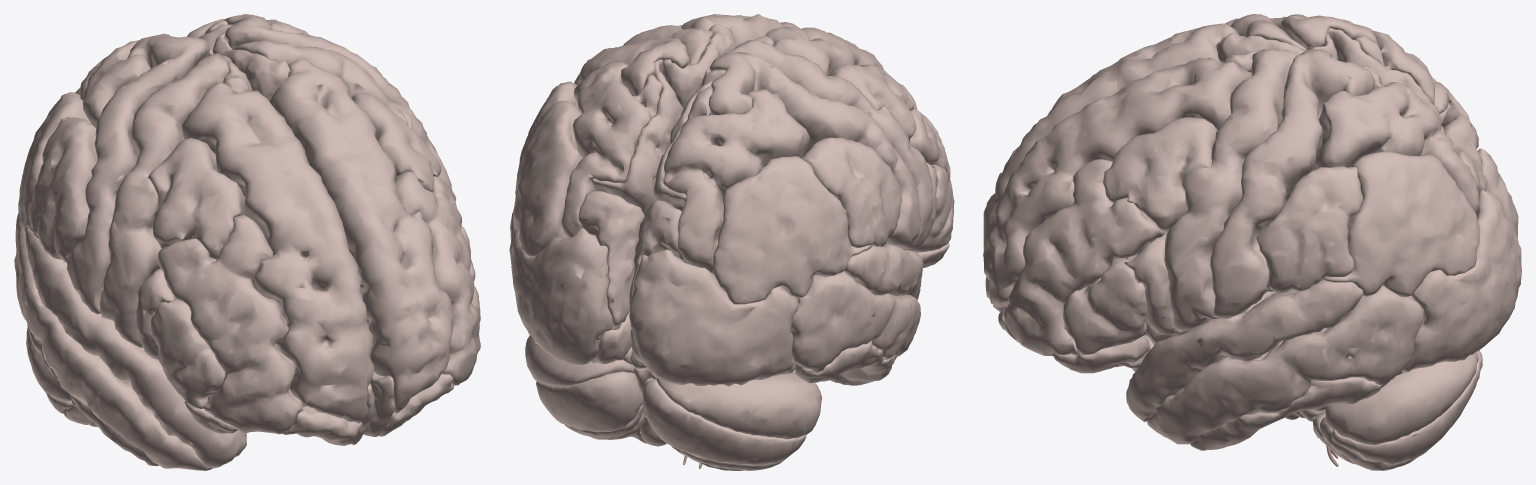
File: atlas_nervous_mni152.nervous.LOD1.glb
3 renders of one model, left to right at view 1: azimuth 30°, elevation 25°; view 2: azimuth 150°, elevation 25°; view 3: azimuth 270°, elevation 25°, orthographic. The views are drawn at different scales.
Visible parts, largest first — view 1: ATLAS.NERVOUS.MNI152.NERVOUS.SUPERIOR_FRONTAL_GYRUS.R, ATLAS.NERVOUS.MNI152.NERVOUS.SUPERIOR_FRONTAL_GYRUS.L, ATLAS.NERVOUS.MNI152.NERVOUS.ROSTRAL_MIDDLE_FRONTAL_GYRUS.R, ATLAS.NERVOUS.MNI152.NERVOUS.PRECENTRAL_GYRUS.R, ATLAS.NERVOUS.MNI152.NERVOUS.POSTCENTRAL_GYRUS.R, ATLAS.NERVOUS.MNI152.NERVOUS.SUPERIOR_TEMPORAL_GYRUS.R, ATLAS.NERVOUS.MNI152.NERVOUS.MIDDLE_TEMPORAL_GYRUS.R, ATLAS.NERVOUS.MNI152.NERVOUS.CAUDAL_MIDDLE_FRONTAL_GYRUS.R, ATLAS.NERVOUS.MNI152.NERVOUS.ROSTRAL_MIDDLE_FRONTAL_GYRUS.L, ATLAS.NERVOUS.MNI152.NERVOUS.SUPRAMARGINAL_GYRUS.R, ATLAS.NERVOUS.MNI152.NERVOUS.INFERIOR_FRONTAL_GYRUS_PARS_TRI, ATLAS.NERVOUS.MNI152.NERVOUS.PRECENTRAL_GYRUS.L (+14 smaller); view 2: ATLAS.NERVOUS.MNI152.NERVOUS.INFERIOR_PARIETAL_LOBULE_ANGULA (×2), ATLAS.NERVOUS.MNI152.NERVOUS.LATERAL_OCCIPITAL_CORTEX.R, ATLAS.NERVOUS.MNI152.NERVOUS.SUPERIOR_PARIETAL_LOBULE.R, ATLAS.NERVOUS.MNI152.NERVOUS.LATERAL_OCCIPITAL_CORTEX.L, ATLAS.NERVOUS.MNI152.NERVOUS.POSTCENTRAL_GYRUS.R, ATLAS.NERVOUS.MNI152.NERVOUS.MIDDLE_TEMPORAL_GYRUS.R, ATLAS.NERVOUS.MNI152.NERVOUS.SUPERIOR_PARIETAL_LOBULE.L, ATLAS.NERVOUS.MNI152.NERVOUS.CRUS_I.R, ATLAS.NERVOUS.MNI152.NERVOUS.SUPRAMARGINAL_GYRUS.R, ATLAS.NERVOUS.MNI152.NERVOUS.CRUS_II.R, ATLAS.NERVOUS.MNI152.NERVOUS.PRECENTRAL_GYRUS.R, ATLAS.NERVOUS.MNI152.NERVOUS.CRUS_II.L (+19 smaller); view 3: ATLAS.NERVOUS.MNI152.NERVOUS.SUPERIOR_FRONTAL_GYRUS.L, ATLAS.NERVOUS.MNI152.NERVOUS.MIDDLE_TEMPORAL_GYRUS.L, ATLAS.NERVOUS.MNI152.NERVOUS.INFERIOR_PARIETAL_LOBULE_ANGULA, ATLAS.NERVOUS.MNI152.NERVOUS.POSTCENTRAL_GYRUS.L, ATLAS.NERVOUS.MNI152.NERVOUS.ROSTRAL_MIDDLE_FRONTAL_GYRUS.L, ATLAS.NERVOUS.MNI152.NERVOUS.PRECENTRAL_GYRUS.L, ATLAS.NERVOUS.MNI152.NERVOUS.SUPERIOR_TEMPORAL_GYRUS.L, ATLAS.NERVOUS.MNI152.NERVOUS.LATERAL_OCCIPITAL_CORTEX.L, ATLAS.NERVOUS.MNI152.NERVOUS.SUPERIOR_PARIETAL_LOBULE.L, ATLAS.NERVOUS.MNI152.NERVOUS.SUPRAMARGINAL_GYRUS.L, ATLAS.NERVOUS.MNI152.NERVOUS.CAUDAL_MIDDLE_FRONTAL_GYRUS.L, ATLAS.NERVOUS.MNI152.NERVOUS.CRUS_I.L (+14 smaller).
Boxes of the visible parts, left/top/right/bottom form: ATLAS.NERVOUS.MNI152.NERVOUS.SUPERIOR_FRONTAL_GYRUS.R: left=182, top=82, right=374, bottom=423; ATLAS.NERVOUS.MNI152.NERVOUS.SUPERIOR_FRONTAL_GYRUS.L: left=269, top=59, right=453, bottom=413; ATLAS.NERVOUS.MNI152.NERVOUS.ROSTRAL_MIDDLE_FRONTAL_GYRUS.R: left=158, top=215, right=302, bottom=434; ATLAS.NERVOUS.MNI152.NERVOUS.PRECENTRAL_GYRUS.R: left=99, top=53, right=228, bottom=347; ATLAS.NERVOUS.MNI152.NERVOUS.POSTCENTRAL_GYRUS.R: left=67, top=33, right=209, bottom=314; ATLAS.NERVOUS.MNI152.NERVOUS.SUPERIOR_TEMPORAL_GYRUS.R: left=25, top=228, right=246, bottom=468; ATLAS.NERVOUS.MNI152.NERVOUS.MIDDLE_TEMPORAL_GYRUS.R: left=14, top=227, right=212, bottom=470; ATLAS.NERVOUS.MNI152.NERVOUS.CAUDAL_MIDDLE_FRONTAL_GYRUS.R: left=148, top=138, right=245, bottom=259; ATLAS.NERVOUS.MNI152.NERVOUS.ROSTRAL_MIDDLE_FRONTAL_GYRUS.L: left=394, top=171, right=480, bottom=385; ATLAS.NERVOUS.MNI152.NERVOUS.SUPRAMARGINAL_GYRUS.R: left=28, top=117, right=97, bottom=262; ATLAS.NERVOUS.MNI152.NERVOUS.INFERIOR_FRONTAL_GYRUS_PARS_TRI: left=151, top=299, right=225, bottom=408; ATLAS.NERVOUS.MNI152.NERVOUS.PRECENTRAL_GYRUS.L: left=234, top=40, right=456, bottom=201; ATLAS.NERVOUS.MNI152.NERVOUS.INFERIOR_PARIETAL_LOBULE_ANGULA (×2): left=513, top=100, right=872, bottom=304; ATLAS.NERVOUS.MNI152.NERVOUS.LATERAL_OCCIPITAL_CORTEX.R: left=629, top=249, right=798, bottom=386; ATLAS.NERVOUS.MNI152.NERVOUS.SUPERIOR_PARIETAL_LOBULE.R: left=663, top=87, right=810, bottom=273; ATLAS.NERVOUS.MNI152.NERVOUS.LATERAL_OCCIPITAL_CORTEX.L: left=511, top=228, right=612, bottom=365; ATLAS.NERVOUS.MNI152.NERVOUS.POSTCENTRAL_GYRUS.R: left=709, top=52, right=920, bottom=249; ATLAS.NERVOUS.MNI152.NERVOUS.MIDDLE_TEMPORAL_GYRUS.R: left=791, top=271, right=920, bottom=372; ATLAS.NERVOUS.MNI152.NERVOUS.SUPERIOR_PARIETAL_LOBULE.L: left=561, top=60, right=662, bottom=237; ATLAS.NERVOUS.MNI152.NERVOUS.CRUS_I.R: left=655, top=372, right=821, bottom=439; ATLAS.NERVOUS.MNI152.NERVOUS.SUPRAMARGINAL_GYRUS.R: left=801, top=137, right=901, bottom=247; ATLAS.NERVOUS.MNI152.NERVOUS.CRUS_II.R: left=642, top=379, right=806, bottom=464; ATLAS.NERVOUS.MNI152.NERVOUS.PRECENTRAL_GYRUS.R: left=730, top=40, right=933, bottom=250; ATLAS.NERVOUS.MNI152.NERVOUS.CRUS_II.L: left=536, top=371, right=642, bottom=432; ATLAS.NERVOUS.MNI152.NERVOUS.SUPERIOR_FRONTAL_GYRUS.L: left=983, top=58, right=1251, bottom=312; ATLAS.NERVOUS.MNI152.NERVOUS.MIDDLE_TEMPORAL_GYRUS.L: left=1147, top=285, right=1423, bottom=444; ATLAS.NERVOUS.MNI152.NERVOUS.INFERIOR_PARIETAL_LOBULE_ANGULA: left=1324, top=151, right=1479, bottom=296; ATLAS.NERVOUS.MNI152.NERVOUS.POSTCENTRAL_GYRUS.L: left=1210, top=49, right=1374, bottom=318; ATLAS.NERVOUS.MNI152.NERVOUS.ROSTRAL_MIDDLE_FRONTAL_GYRUS.L: left=1003, top=159, right=1164, bottom=356; ATLAS.NERVOUS.MNI152.NERVOUS.PRECENTRAL_GYRUS.L: left=1165, top=49, right=1298, bottom=331; ATLAS.NERVOUS.MNI152.NERVOUS.SUPERIOR_TEMPORAL_GYRUS.L: left=1126, top=279, right=1363, bottom=421; ATLAS.NERVOUS.MNI152.NERVOUS.LATERAL_OCCIPITAL_CORTEX.L: left=1402, top=189, right=1521, bottom=372; ATLAS.NERVOUS.MNI152.NERVOUS.SUPERIOR_PARIETAL_LOBULE.L: left=1313, top=65, right=1479, bottom=213; ATLAS.NERVOUS.MNI152.NERVOUS.SUPRAMARGINAL_GYRUS.L: left=1256, top=166, right=1363, bottom=293; ATLAS.NERVOUS.MNI152.NERVOUS.CAUDAL_MIDDLE_FRONTAL_GYRUS.L: left=1103, top=117, right=1217, bottom=232; ATLAS.NERVOUS.MNI152.NERVOUS.CRUS_I.L: left=1325, top=351, right=1478, bottom=444.
Bounding box in the file's own units: 0.1448 × 0.1587 × 0.1813.
